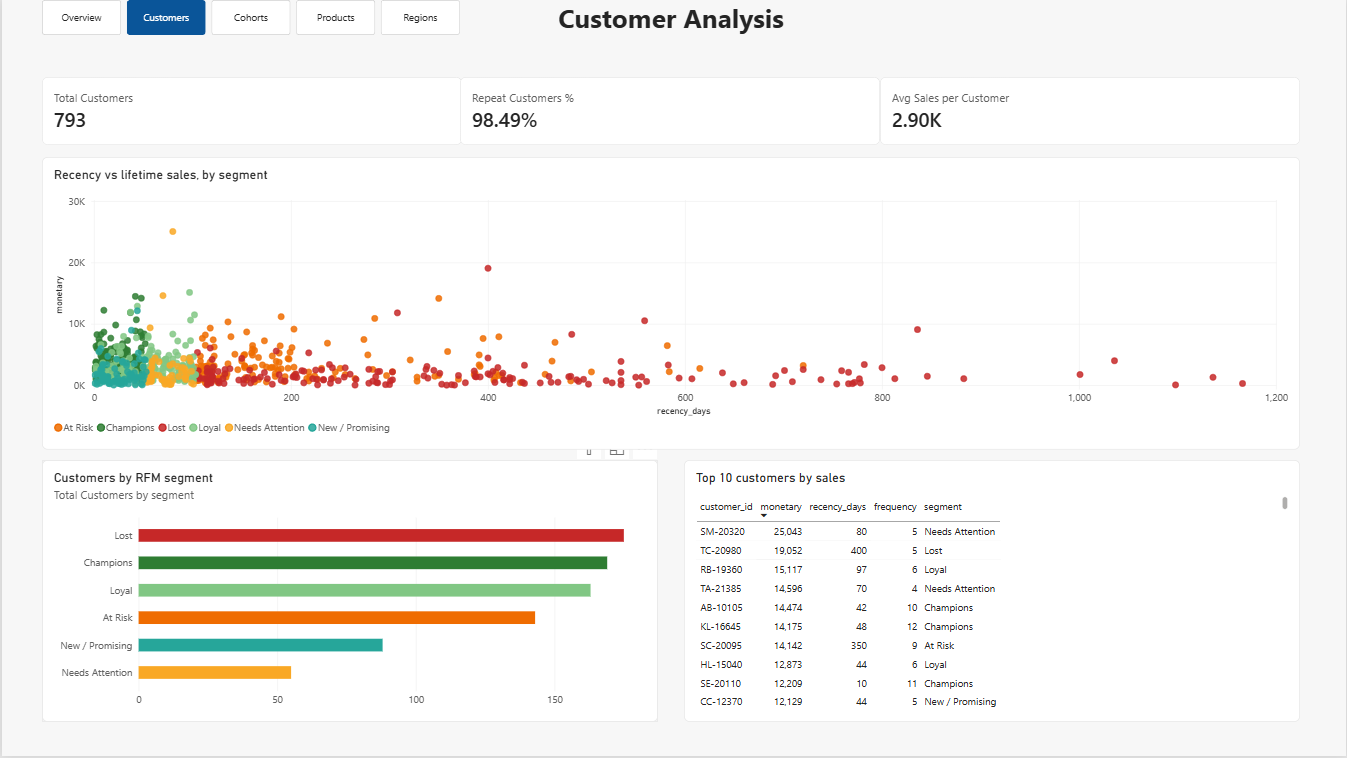

The dashboard page shown, as its layout file describes it:
{"tool":"powerbi","page":{"name":"Customers","canvas":[1920,1080],"ordinal":1},"visuals":[{"type":"cardVisual","fields":{"Data":["vw_rfm.Total Customers"]},"box":[57.2,110.4,600,97.1],"z":0},{"type":"cardVisual","fields":{"Data":["vw_rfm.Repeat Customers %"]},"box":[654.4,110.4,600,97.1],"z":1},{"type":"cardVisual","fields":{"Data":["vw_rfm.Avg Sales per Customer"]},"box":[1254.2,110.4,600,97.1],"z":2},{"type":"barChart","title":"Customers by RFM segment","fields":{"Category":["vw_rfm.segment"],"Y":["vw_rfm.Total Customers"]},"box":[57.2,657,880,373.7],"z":3},{"type":"scatterChart","title":"Recency vs lifetime sales, by segment","fields":{"Series":["vw_rfm.segment"],"X":["vw_rfm.recency_days"],"Y":["vw_rfm.monetary"]},"box":[57.2,224.8,1796.9,417.6],"z":4},{"type":"tableEx","title":"Top 10 customers by sales","fields":{"Values":["vw_rfm.customer_id","vw_rfm.monetary","vw_rfm.recency_days","vw_rfm.frequency","vw_rfm.segment"]},"box":[973.6,657,880,373.7],"z":5},{"type":"textbox","box":[57.2,0,1796.9,106.4],"z":6},{"type":"pageNavigator","box":[57.2,0,600,50.5],"z":7}]}

Visuals, with their boxes in screenshot pixels (x1, y1, x2, y2), scaled from the page's 1920x1080 canvas onto the 1347x758 screenshot:
cardVisual - vw_rfm.Total Customers: select_region(40, 77, 461, 146)
cardVisual - vw_rfm.Repeat Customers %: select_region(459, 77, 880, 146)
cardVisual - vw_rfm.Avg Sales per Customer: select_region(880, 77, 1301, 146)
"Customers by RFM segment" barChart: select_region(40, 461, 658, 723)
"Recency vs lifetime sales, by segment" scatterChart: select_region(40, 158, 1301, 451)
"Top 10 customers by sales" tableEx: select_region(683, 461, 1300, 723)
textbox: select_region(40, 0, 1301, 75)
pageNavigator: select_region(40, 0, 461, 35)
